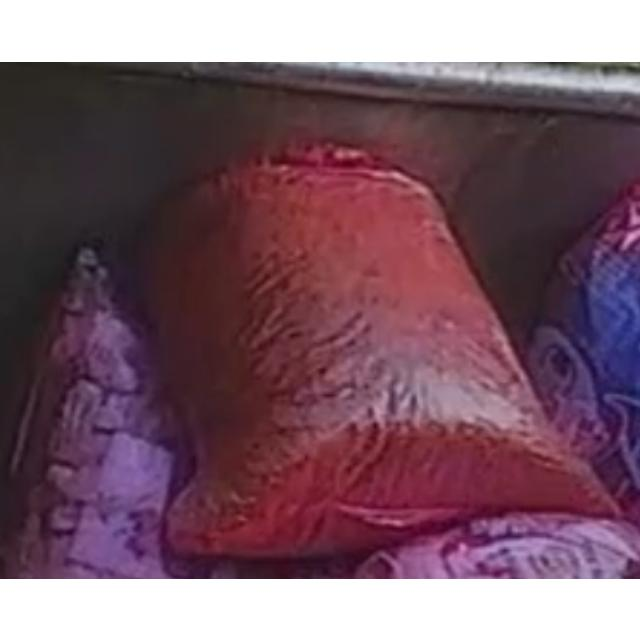other_trashbag: (158, 146, 616, 558), (0, 245, 184, 577), (528, 181, 640, 523), (355, 512, 640, 578)
